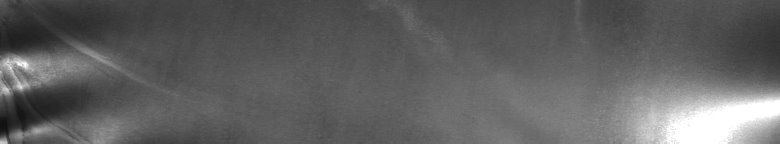ke: (4, 44, 120, 136)
